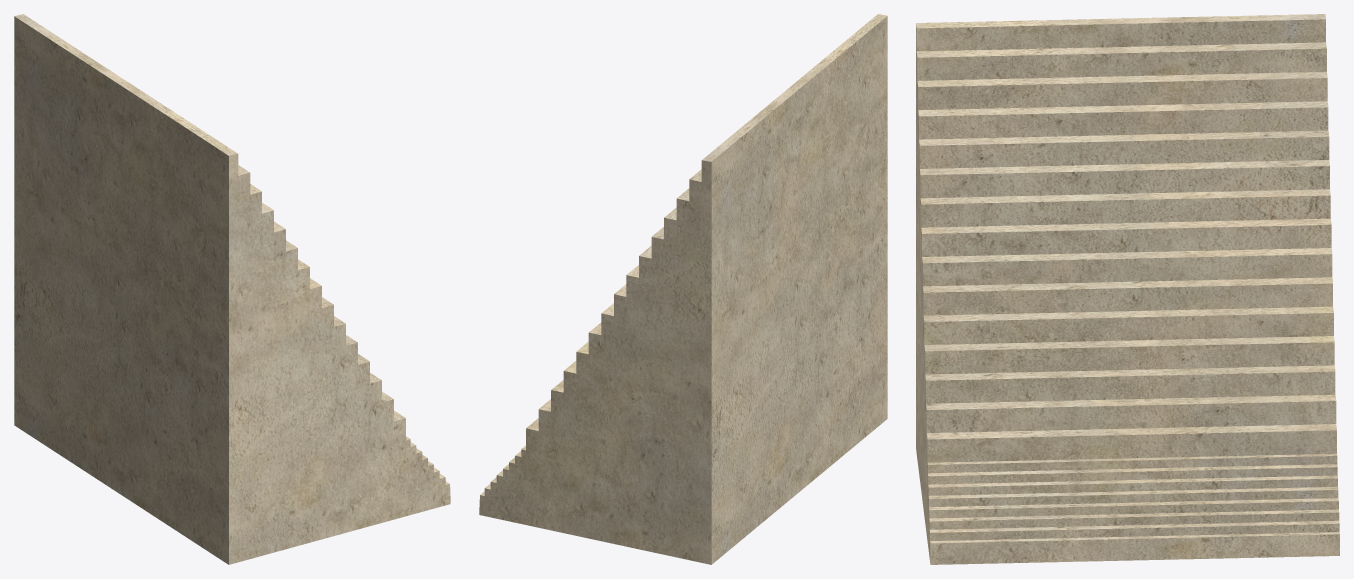
Rendered from concrete_50.fbx.
3 views of the same model, side by side, from view 1: azimuth 30°, elevation 25°; view 2: azimuth 150°, elevation 25°; view 3: azimuth 270°, elevation 25° (orthographic). The views are drawn at different scales.
Visible parts, largest first — view 1: concrete_50; view 2: concrete_50; view 3: concrete_50.
Part boxes in pixels (<box>): concrete_50: <box>14,14,450,564</box>; concrete_50: <box>479,14,887,564</box>; concrete_50: <box>916,14,1339,564</box>.
Bounding box in the file's own units: 228 × 361 × 326.
